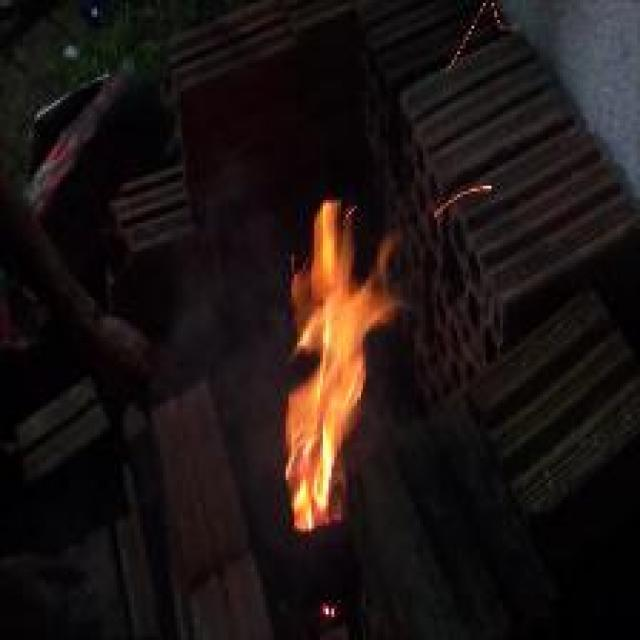Fire: (286, 199, 400, 532)
